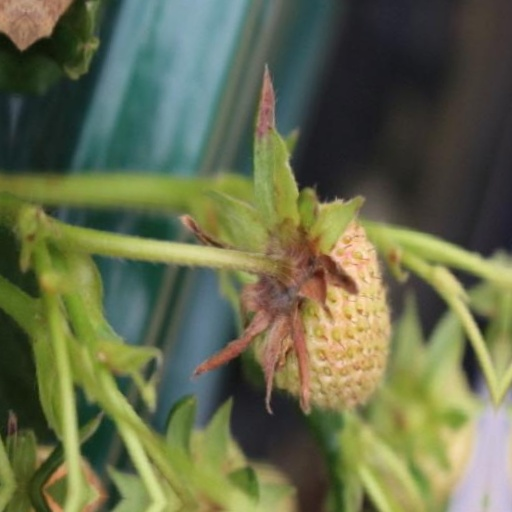Gray Mold: (175, 214, 364, 411)
